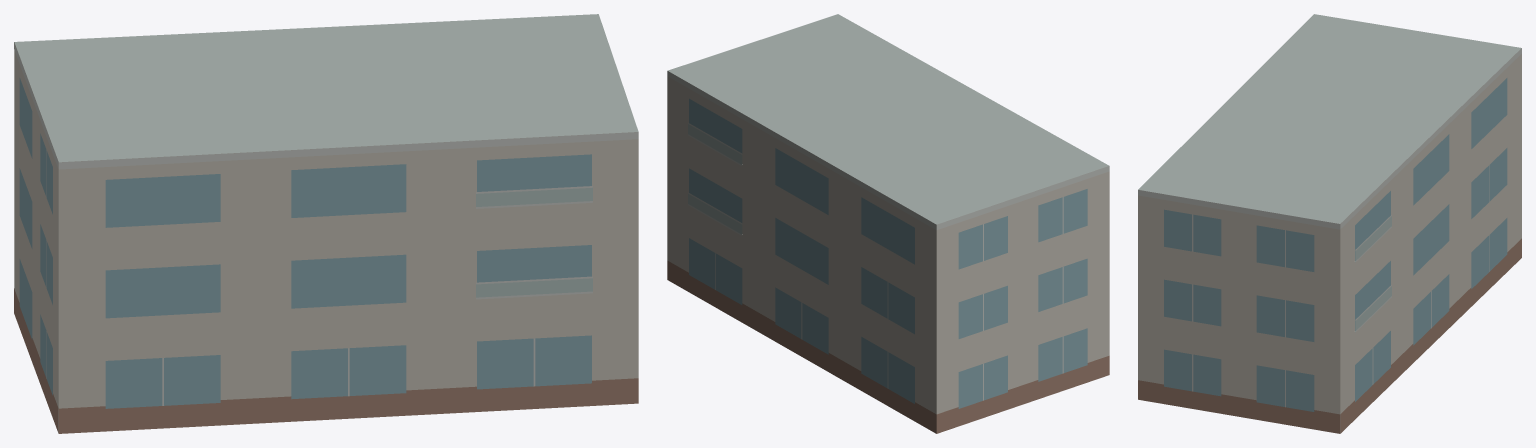
File: survey-upis-32906361.glb
The picture shows the model from 3 angles, left to right: view 1: azimuth 30°, elevation 25°; view 2: azimuth 150°, elevation 25°; view 3: azimuth 270°, elevation 25°; orthographic projection. The views are drawn at different scales.
Parts seen in each view (by area): view 1: survey-upis-32906361.tmp; view 2: survey-upis-32906361.tmp; view 3: survey-upis-32906361.tmp.
Boxes of the visible parts, left/top/right/bottom form: survey-upis-32906361.tmp: left=14, top=14, right=638, bottom=433; survey-upis-32906361.tmp: left=667, top=14, right=1109, bottom=433; survey-upis-32906361.tmp: left=1138, top=14, right=1521, bottom=433.
Bounding box in the file's own units: 19.65 × 9.15 × 15.17.
